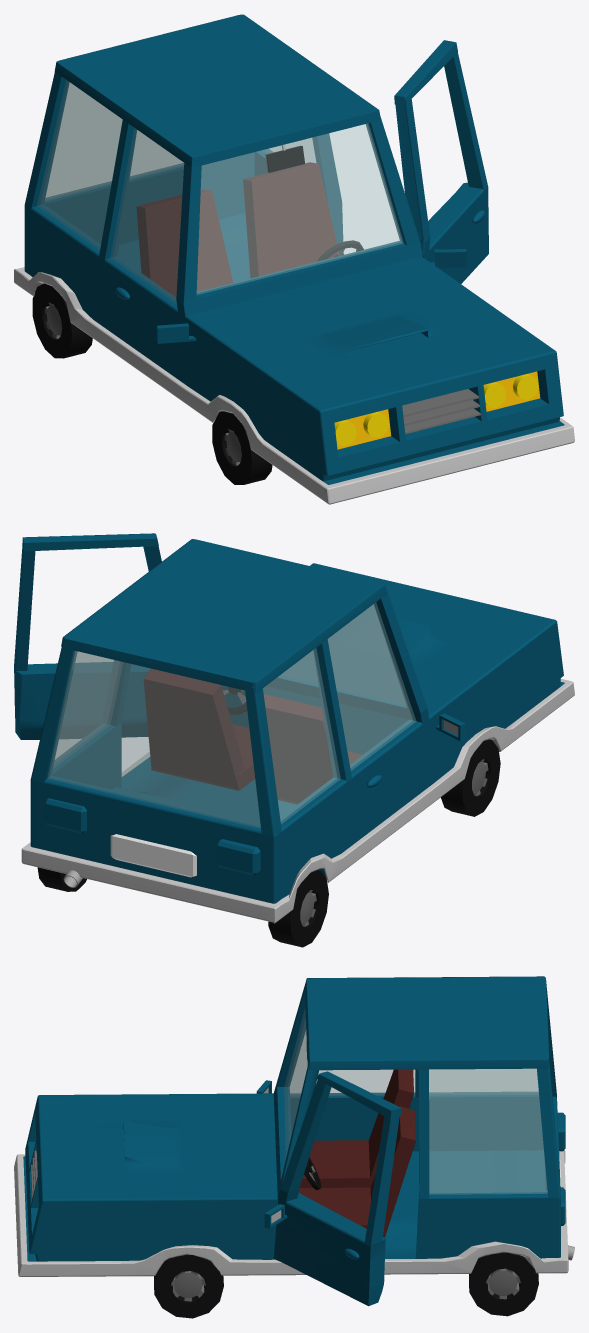
Rendered from Car2.fbx.
The picture shows the model from 3 angles, top to bottom: view 1: azimuth 30°, elevation 25°; view 2: azimuth 150°, elevation 25°; view 3: azimuth 270°, elevation 25°; orthographic projection. The views are drawn at different scales.
Parts seen in each view (by area): view 1: Car; view 2: Car; view 3: Car.
Boxes of the visible parts, <box> form: Car: <box>14,14,574,504</box>; Car: <box>14,533,574,947</box>; Car: <box>14,976,574,1318</box>.
Size of the model in its own units: 11.13 by 7.52 by 15.44.
